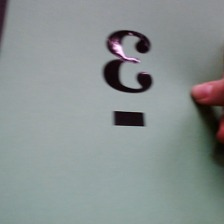green3: (98, 26, 162, 135)
